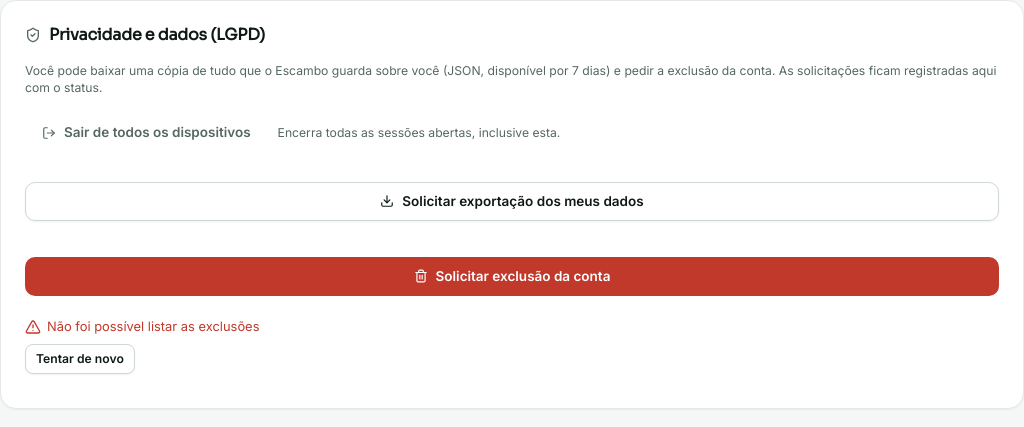
Test: privacidade: o que o cartão mostra › a lista de exclusões também mostra o erro dela e tenta de novo
Expected: the message shows "Não foi possível listar as exclusões", left=47, top=319, right=259, bottom=334
What coordinates should you click on to do the following:
click the button "Tentar de novo"
I would click on:
 (80, 359)
Its box is left=25, top=344, right=135, bottom=374.
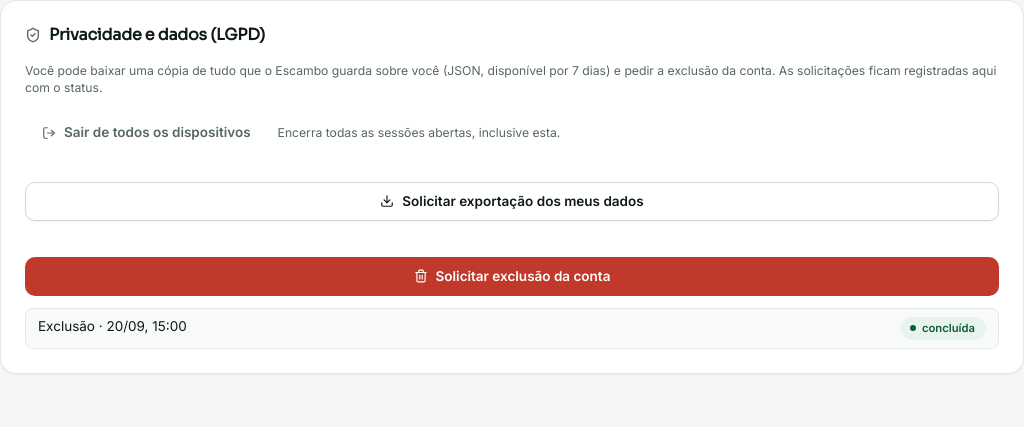
Expected: the text "concluída" is shown, left=901, top=317, right=986, bottom=340
